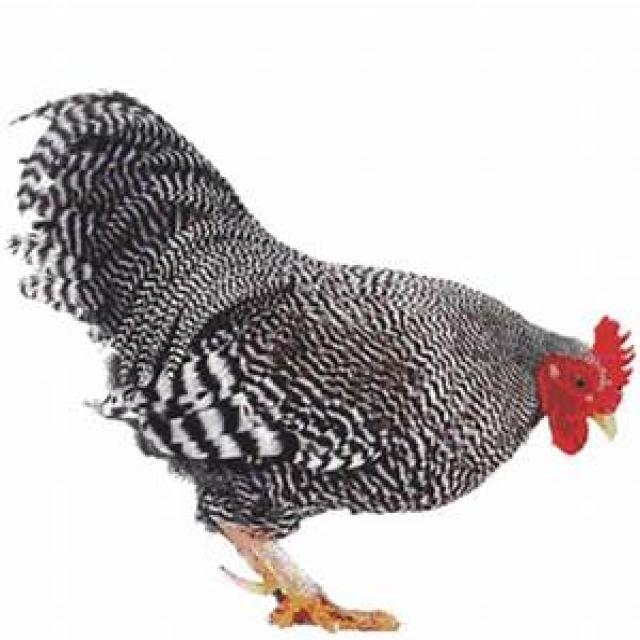chicken: (8, 30, 640, 624)
